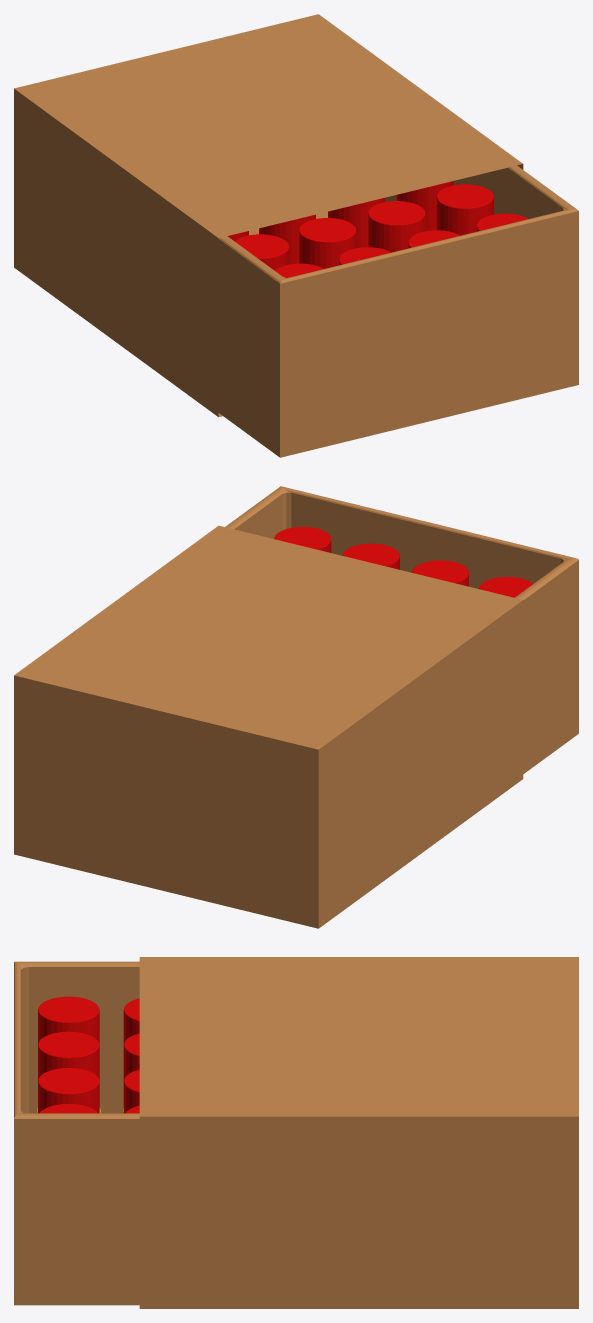
File: ShotGunBulletBox.fbx
3 renders of one model, top to bottom at view 1: azimuth 30°, elevation 25°; view 2: azimuth 150°, elevation 25°; view 3: azimuth 270°, elevation 25°, orthographic. The views are drawn at different scales.
Parts seen in each view (by area): view 1: Cube; view 2: Cube; view 3: Cube.
Boxes of the visible parts, bbox=[...] form: Cube: bbox=[14, 14, 578, 457]; Cube: bbox=[14, 486, 578, 928]; Cube: bbox=[14, 957, 578, 1308].
Bounding box in the file's own units: 10.19 × 5.73 × 15.26.
